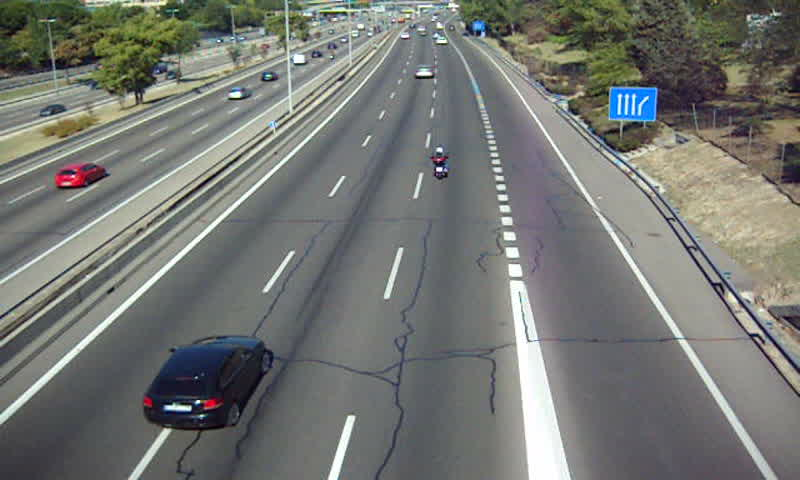car: (144, 334, 266, 427), (413, 65, 434, 81)
motorcycle: (430, 146, 450, 179)
